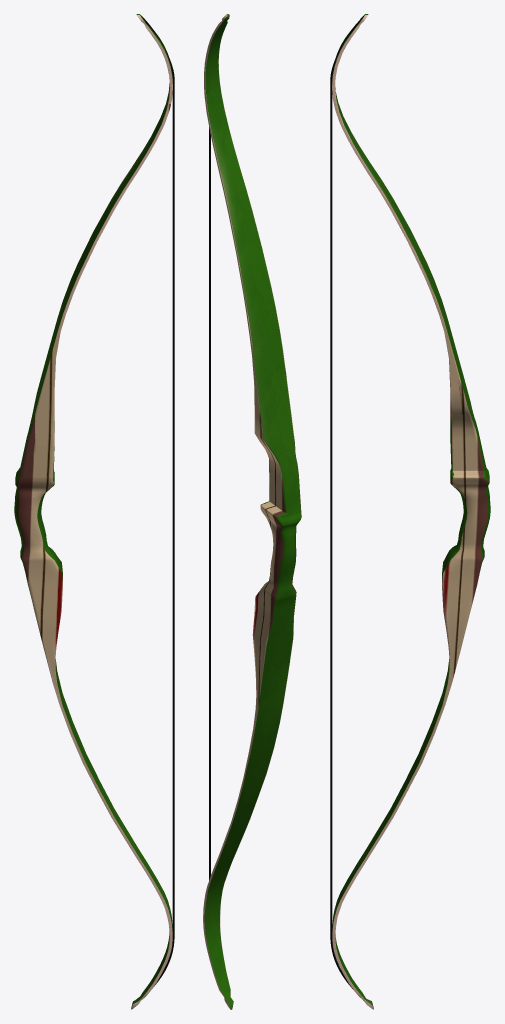
Rendered from bow.gltf.
3 renders of one model, left to right at view 1: azimuth 90°, elevation 25°; view 2: azimuth 210°, elevation 25°; view 3: azimuth 270°, elevation 25°, orthographic.
Parts seen in each view (by area): view 1: RecurveBow, BowStringMesh; view 2: RecurveBow, BowStringMesh; view 3: RecurveBow, BowStringMesh.
Boxes of the visible parts, x1,y1,x2,y2 form: RecurveBow: (14,14,172,1009); BowStringMesh: (141,15,174,988); RecurveBow: (203,14,301,1009); BowStringMesh: (209,127,210,880); RecurveBow: (332,14,490,1009); BowStringMesh: (330,16,364,1001).
Size of the model in its own units: 0.1567 by 4.93 by 0.7196.
2 materials, 1 textured.
